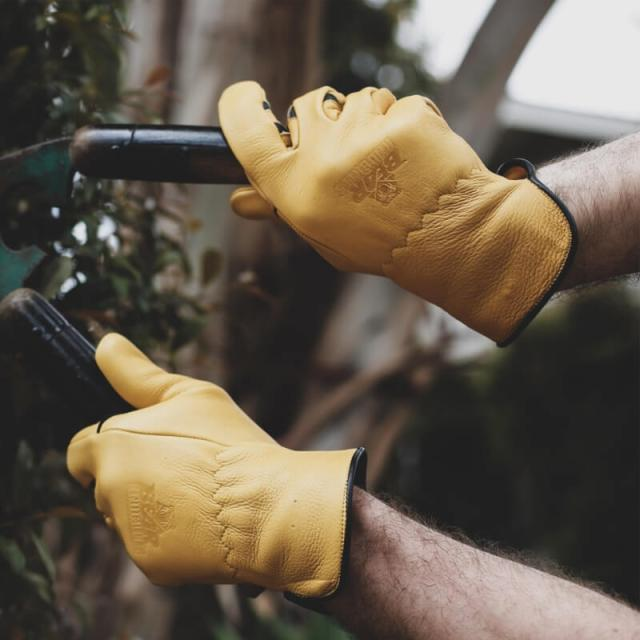gloves: (218, 80, 591, 348), (62, 327, 372, 613)
